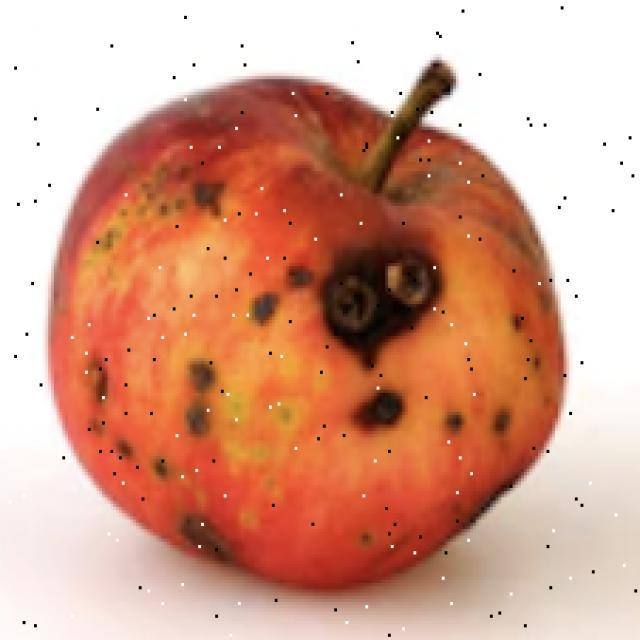Rotten: (50, 78, 565, 605)
